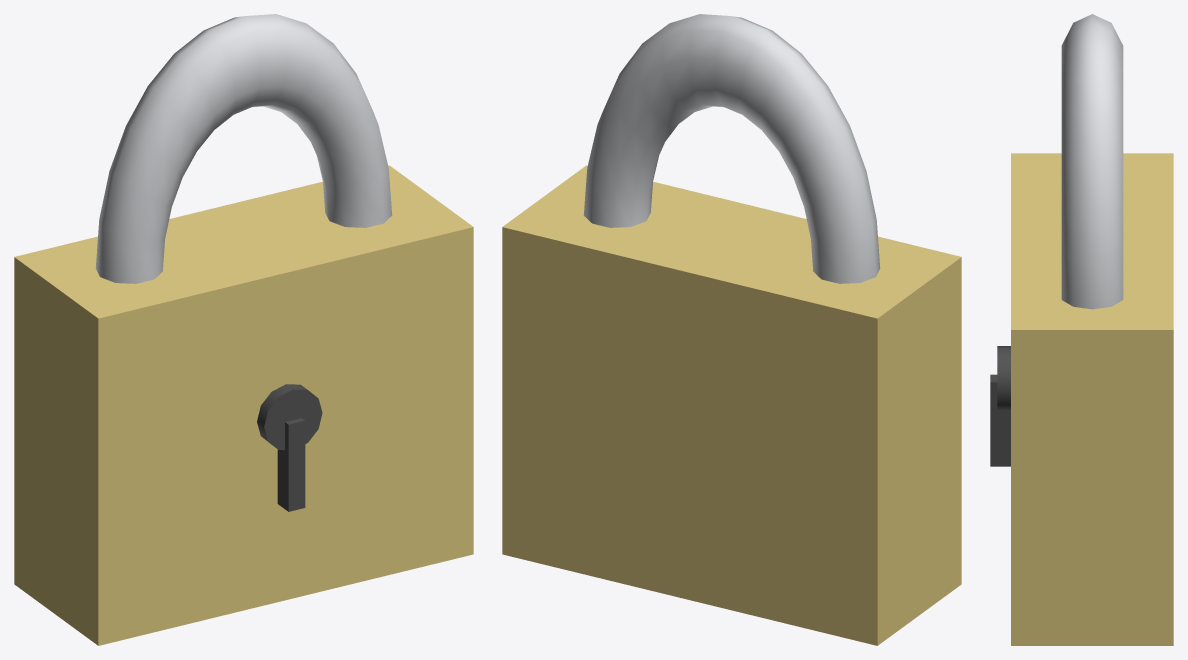
Rendered from gembok.glb.
The picture shows the model from 3 angles, left to right: view 1: azimuth 30°, elevation 25°; view 2: azimuth 150°, elevation 25°; view 3: azimuth 270°, elevation 25°; orthographic projection. The views are drawn at different scales.
Parts seen in each view (by area): view 1: gembok_Mesh; view 2: gembok_Mesh; view 3: gembok_Mesh.
Part boxes in pixels (x1,y1,x2,y2): gembok_Mesh: (14,14,473,645); gembok_Mesh: (502,14,961,645); gembok_Mesh: (990,14,1173,645).
Size of the model in its own units: 0.18 by 0.2535 by 0.079.
